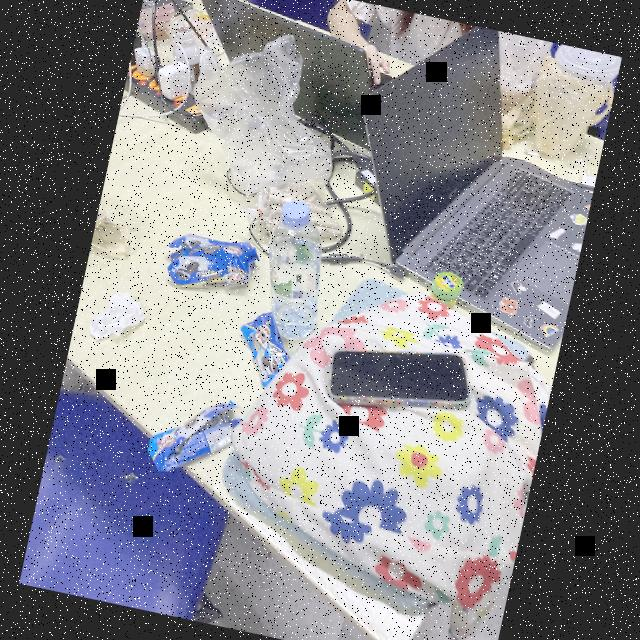plastic_bag: (185, 18, 364, 212), (522, 56, 618, 172), (88, 192, 154, 270), (491, 95, 540, 156)
plastic_bottle: (248, 192, 346, 351), (162, 20, 214, 91)
plastic_bottle_cap: (276, 194, 320, 232)
plastic_cup: (482, 30, 542, 119)
plastic_cup_lid: (548, 44, 622, 92)
scrap_paper: (82, 282, 152, 355)
snack_bag: (140, 385, 249, 484), (160, 222, 264, 302), (249, 168, 356, 244), (228, 304, 304, 396)
